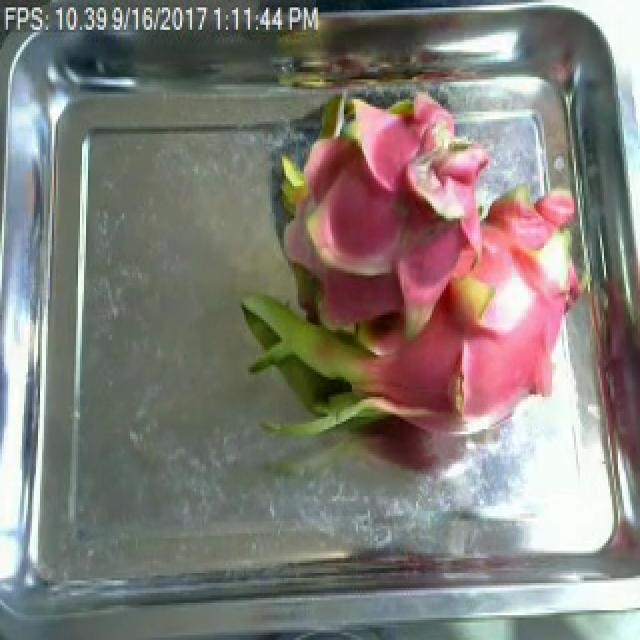fruit: (218, 74, 604, 503)
